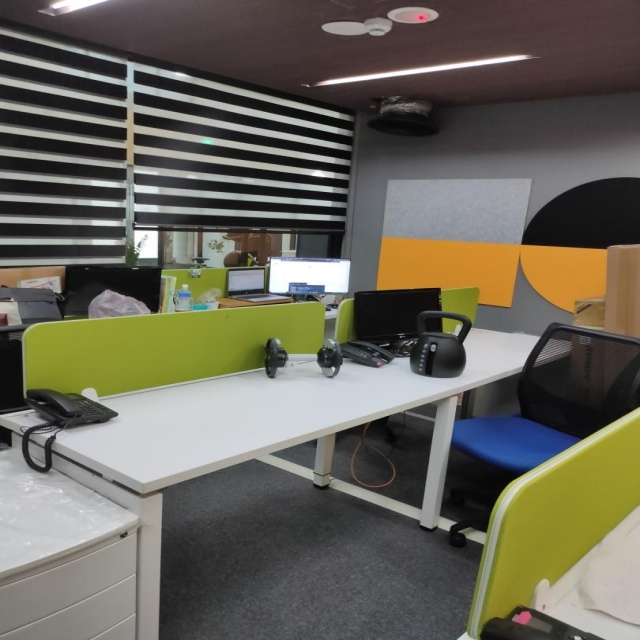02-4kg: (263, 337, 342, 379)
